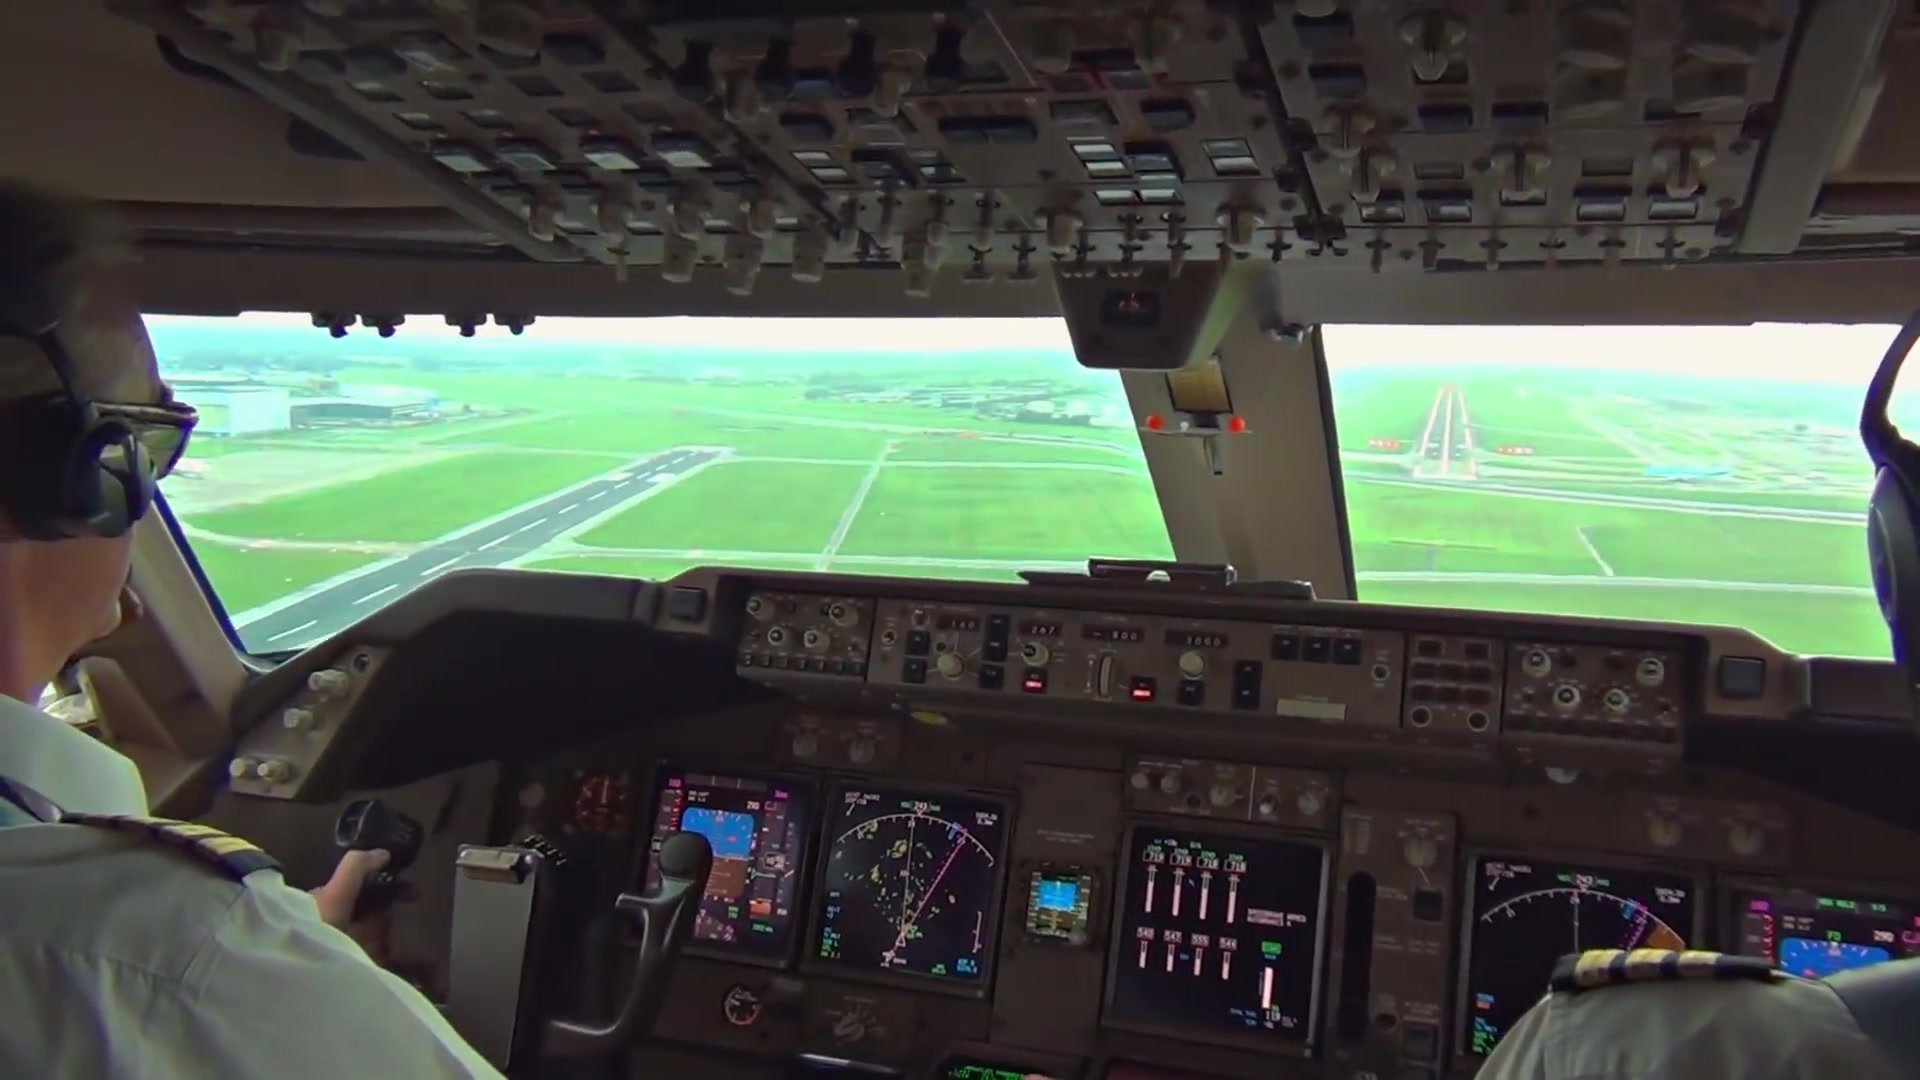runway: (249, 436, 744, 671), (1411, 384, 1477, 487)
